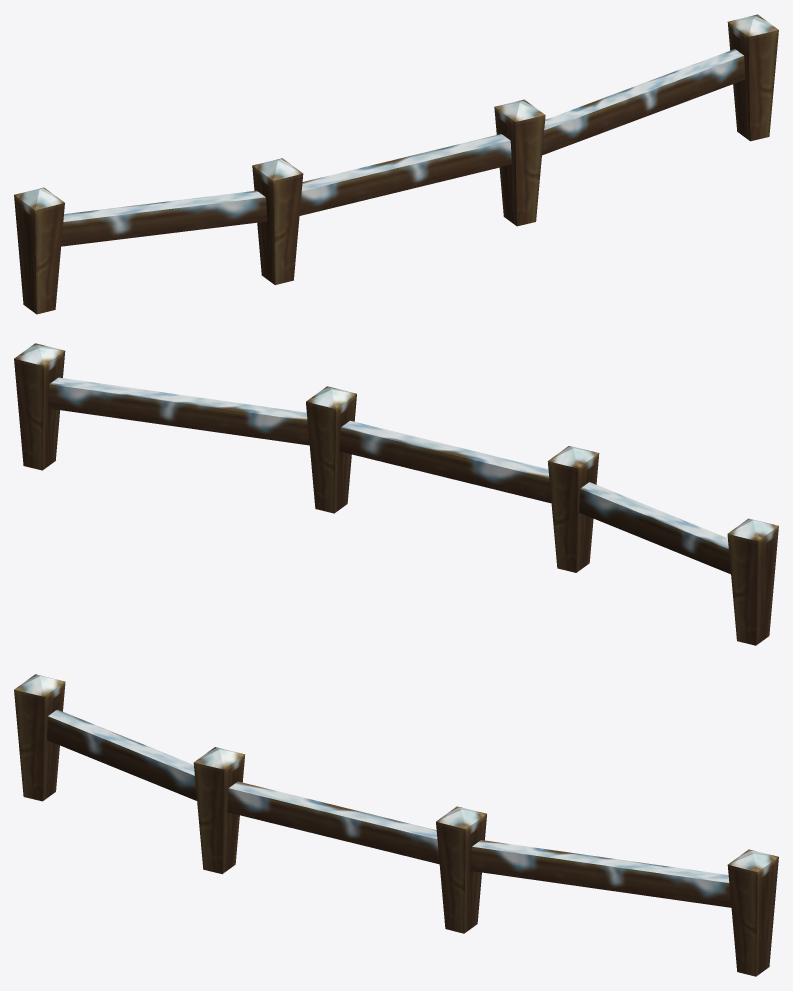
File: LanGan02.FBX
3 renders of one model, top to bottom at view 1: azimuth 30°, elevation 25°; view 2: azimuth 150°, elevation 25°; view 3: azimuth 330°, elevation 25°, orthographic.
Visible parts, largest first — view 1: LanGan02; view 2: LanGan02; view 3: LanGan02.
Boxes of the visible parts, x1,y1,x2,y2 form: LanGan02: [14, 14, 778, 314]; LanGan02: [14, 343, 778, 645]; LanGan02: [14, 674, 778, 976].
Size of the model in its own units: 216 by 32.71 by 25.74.
